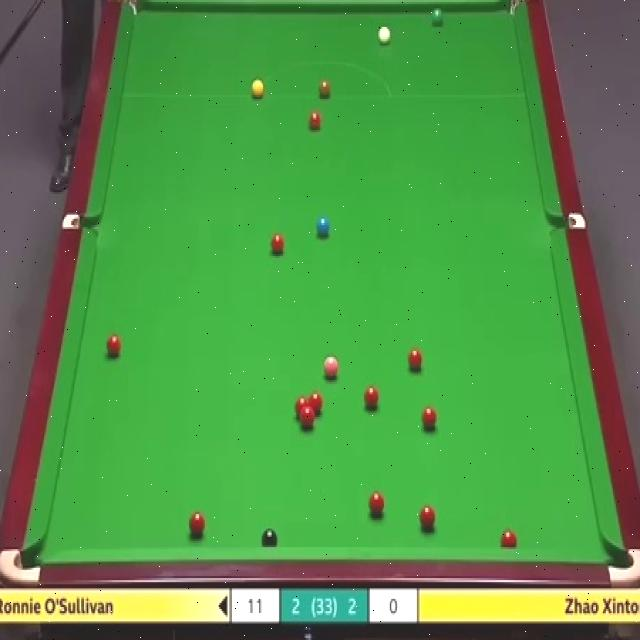black-ball: (261, 525, 279, 549)
blue-ball: (316, 214, 330, 239)
brown-ball: (317, 77, 331, 100)
green-ball: (429, 7, 445, 27)
pink-ball: (324, 352, 339, 379)
red-ball: (406, 346, 424, 375), (104, 332, 122, 360), (418, 505, 435, 532), (368, 490, 385, 517), (363, 385, 379, 411), (421, 403, 436, 430), (307, 109, 322, 135), (270, 232, 286, 256), (190, 511, 205, 536), (309, 392, 323, 417), (501, 528, 517, 548), (295, 396, 309, 417), (301, 409, 314, 429)
white-ball: (377, 21, 392, 45)
yellow-ball: (250, 77, 264, 98)
